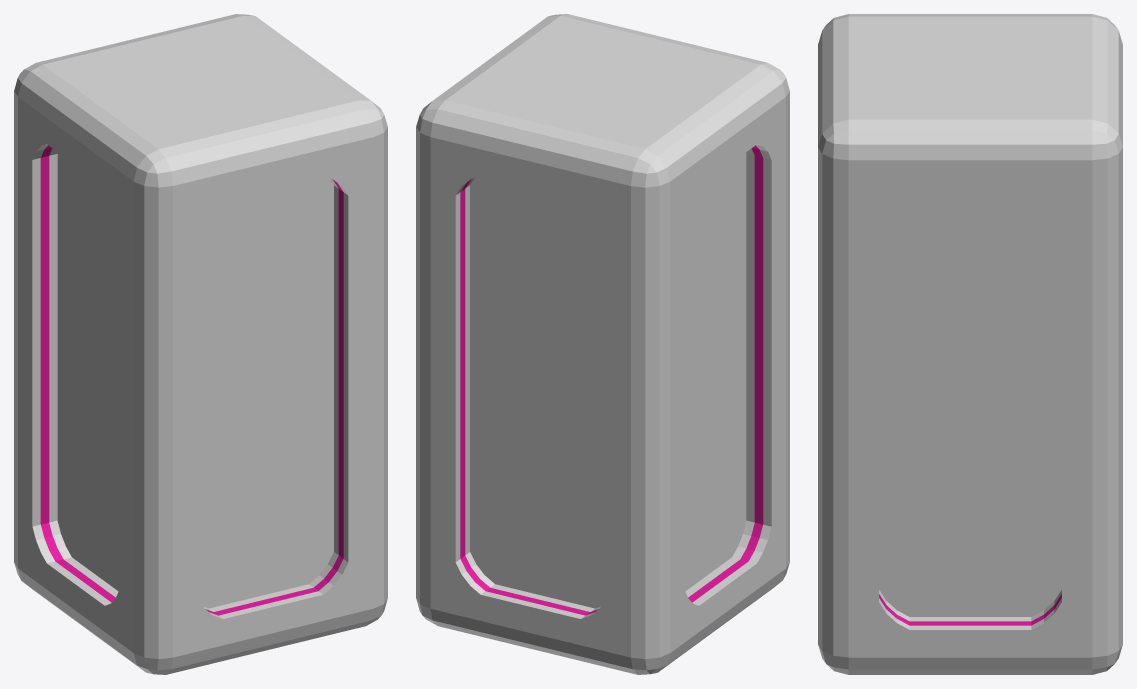
File: Pedestal.fbx
3 renders of one model, left to right at view 1: azimuth 30°, elevation 25°; view 2: azimuth 150°, elevation 25°; view 3: azimuth 270°, elevation 25°, orthographic. The views are drawn at different scales.
Visible parts, largest first — view 1: Pedestal; view 2: Pedestal; view 3: Pedestal.
Boxes of the visible parts, <box> form: Pedestal: <box>14,14,387,674</box>; Pedestal: <box>416,14,789,674</box>; Pedestal: <box>818,14,1122,674</box>.
Bounding box in the file's own units: 50 × 100 × 50.
